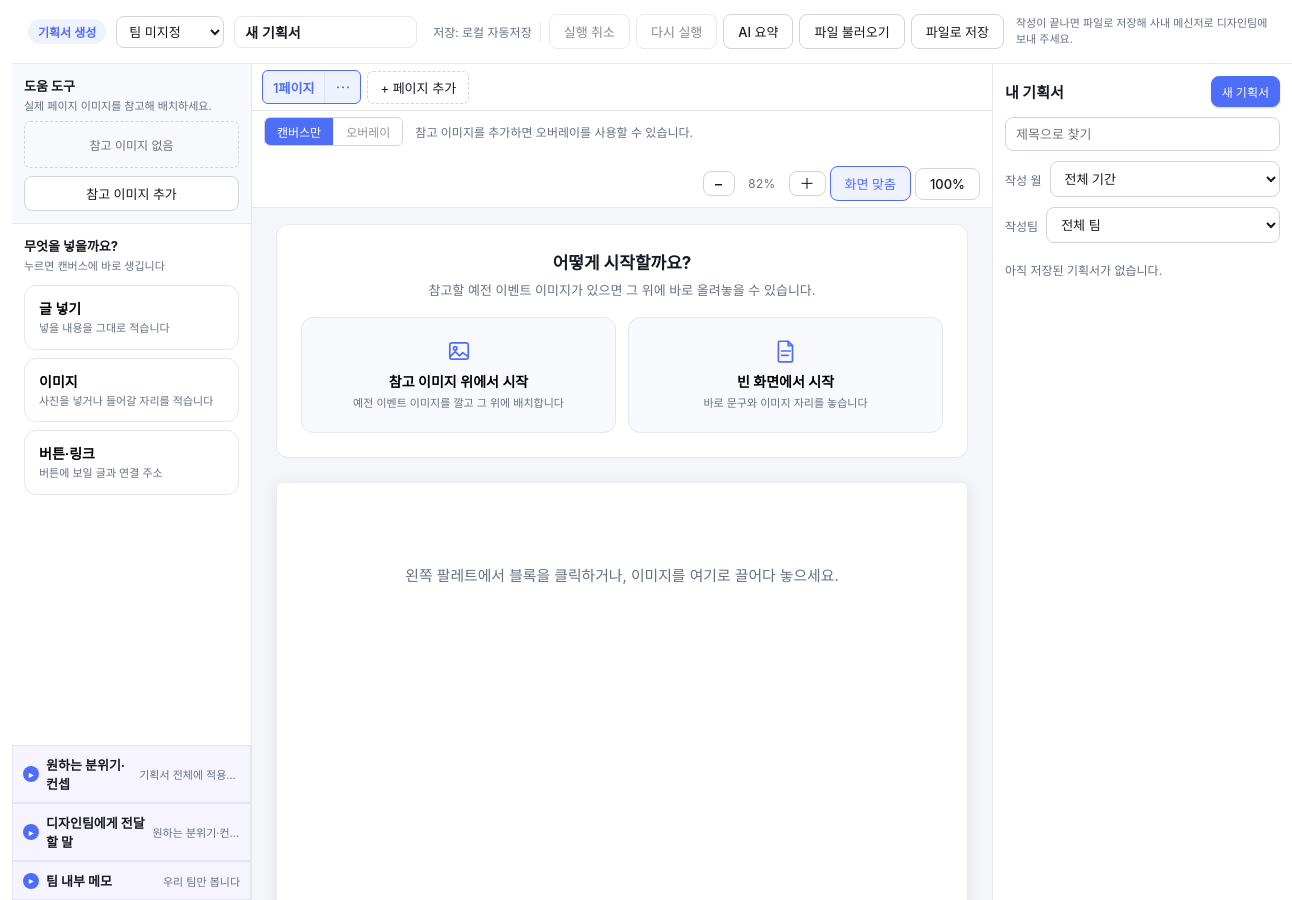
Test: §10.6 이미지 링크 · §10.7 버튼 문구와 URL › stores an image link in a publishing block, never in the design wording
Click the button "이미지 사진을 넣거나 들어갈 자리를 적습니다". click: click(132, 390)
box: left=24, top=358, right=239, bottom=422
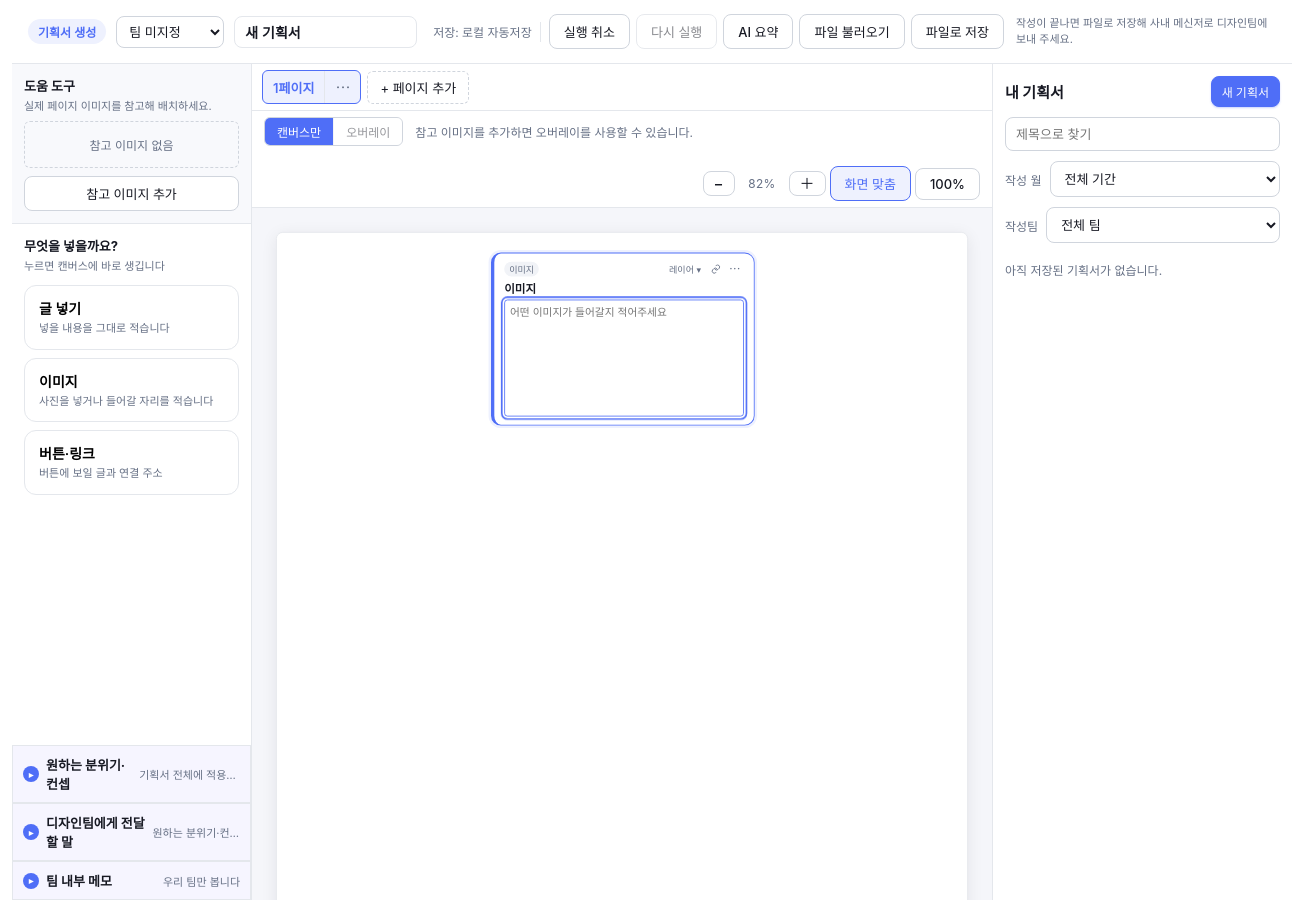
Press Escape
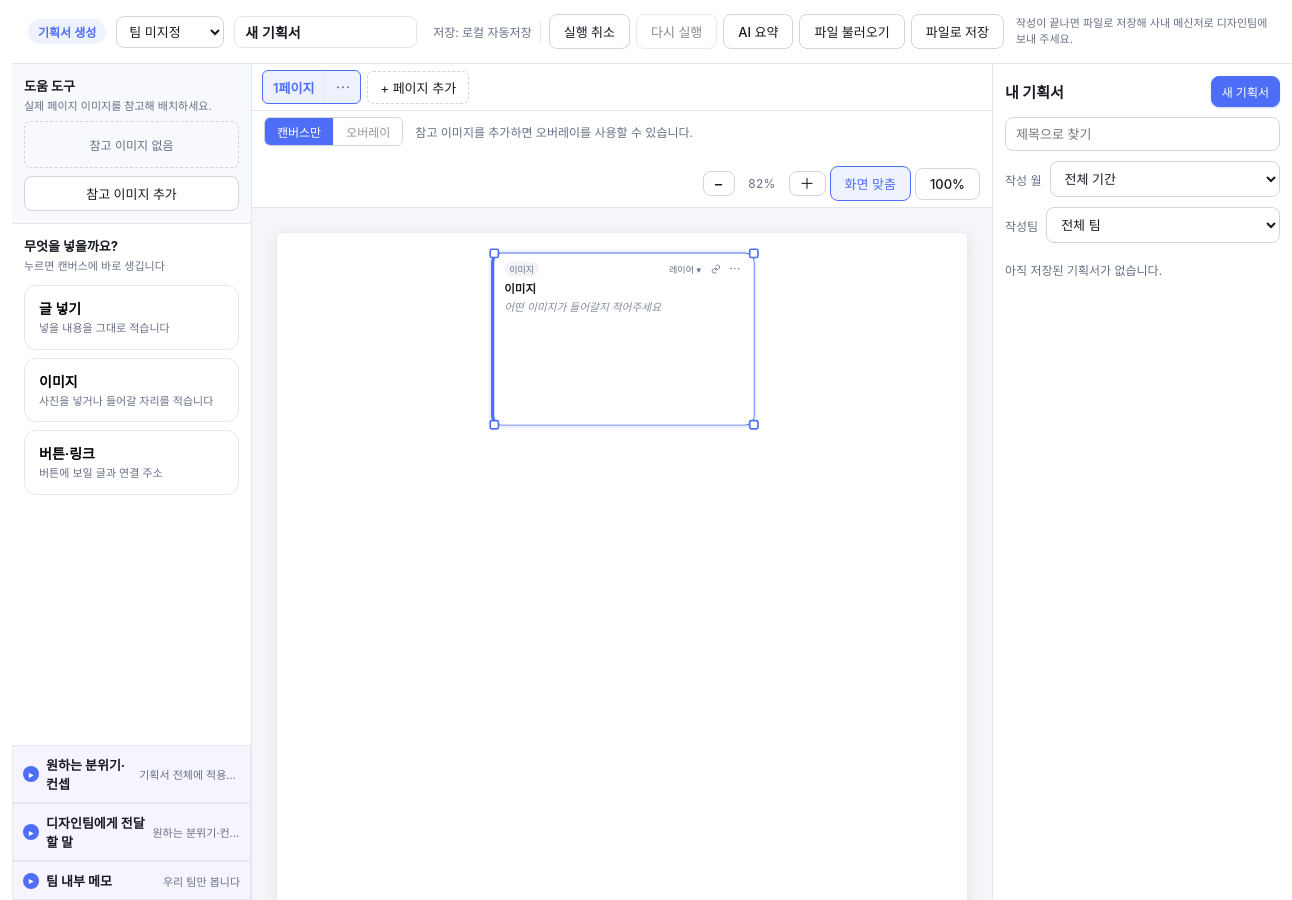
Click the button named "이미지 링크 연결". click: click(716, 269)
box: left=708, top=262, right=724, bottom=276
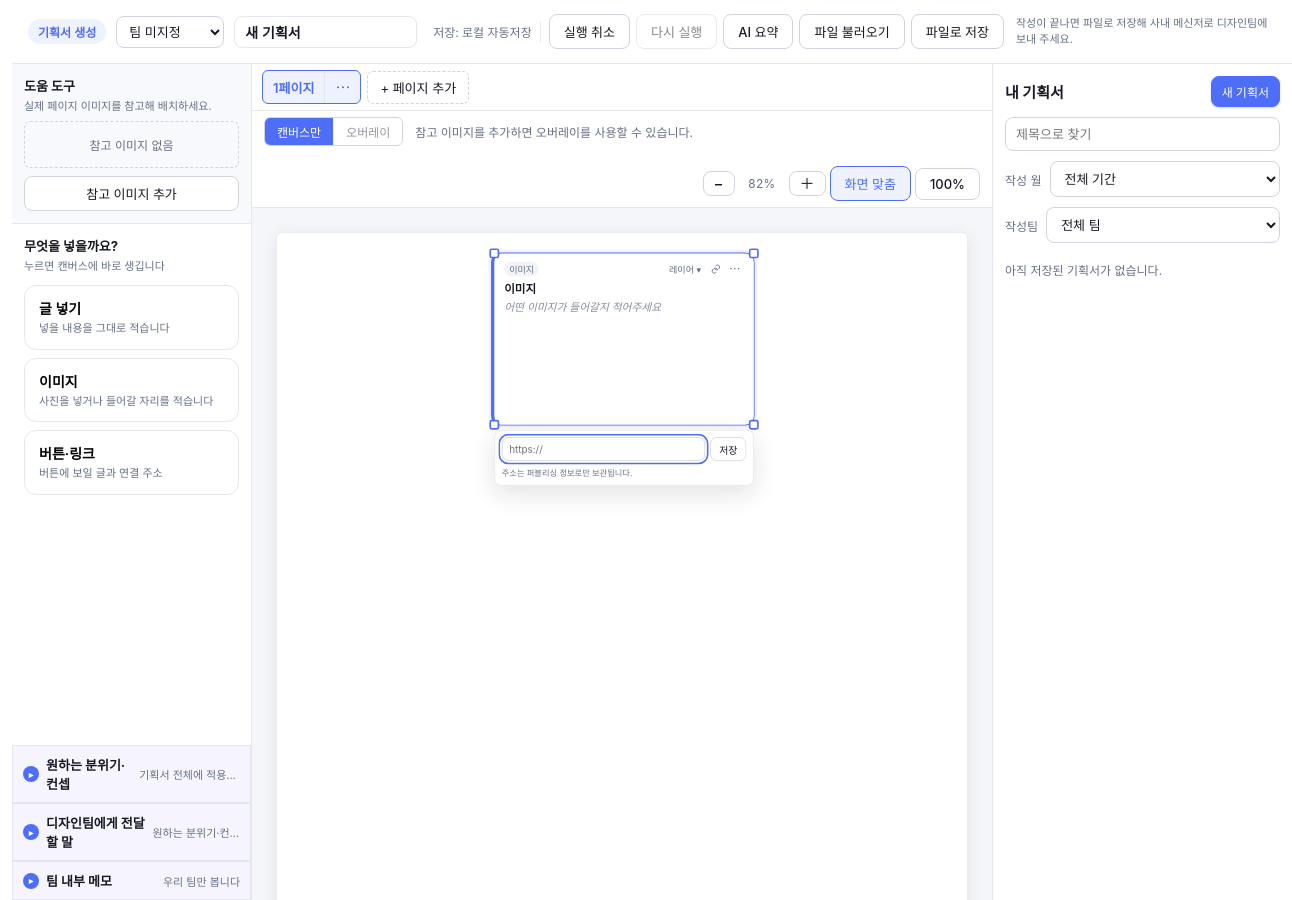
Type "https://shop.example.com/item/1" into the field named "이미지 연결 주소". click: (603, 449)
box: left=502, top=437, right=705, bottom=461
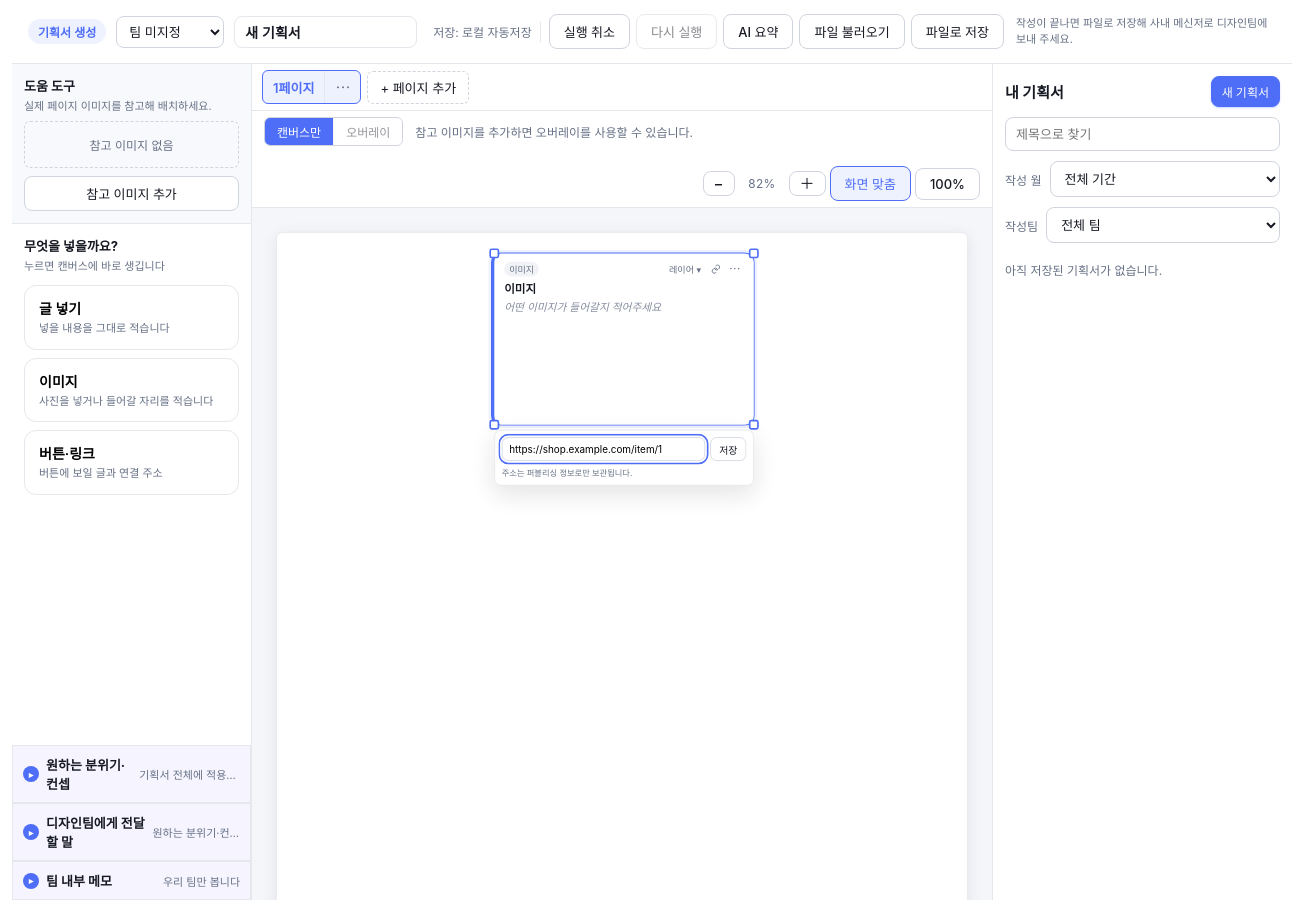
Click the button "저장". click: click(728, 449)
box: left=710, top=437, right=746, bottom=461
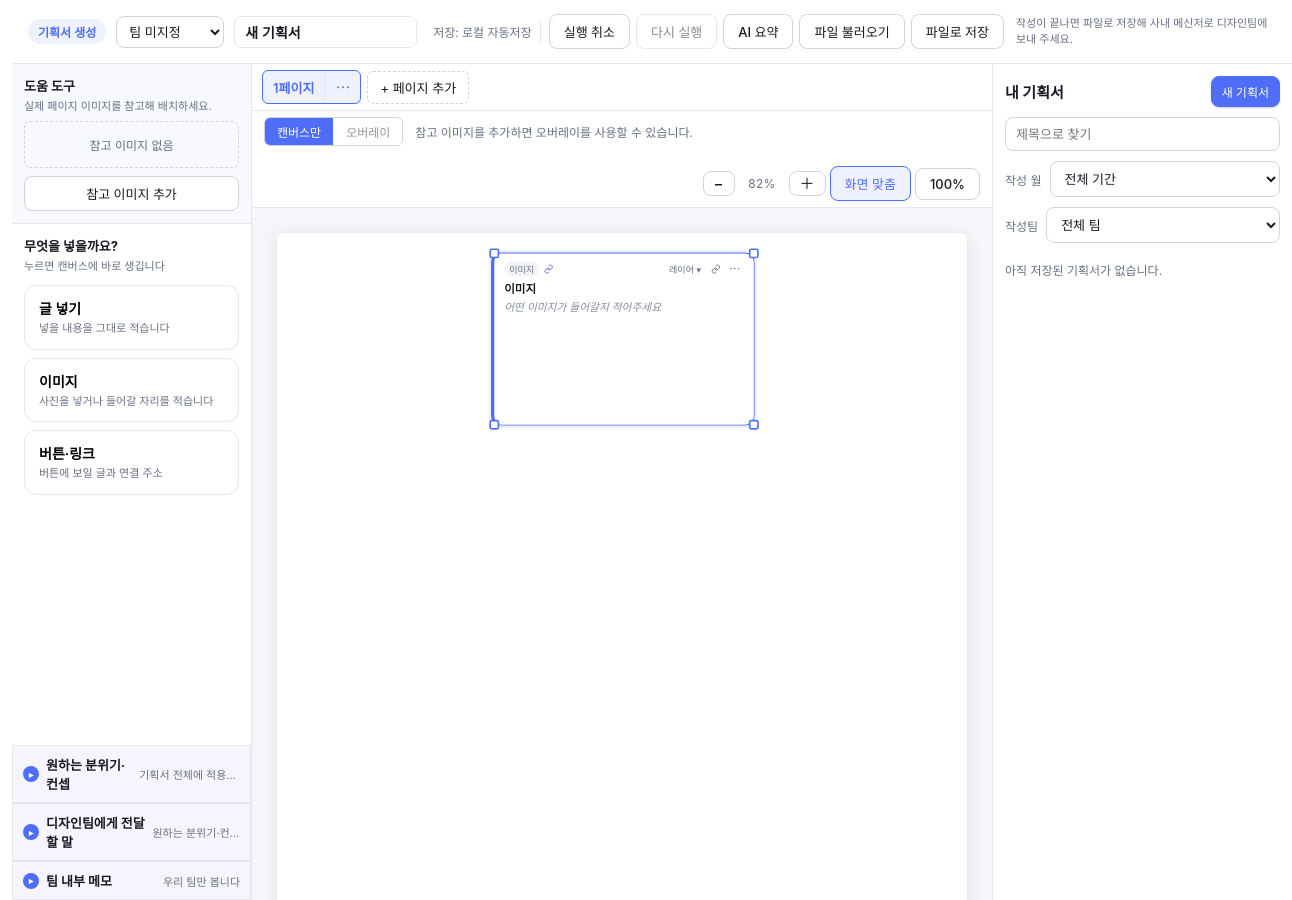
Now the number of buttons with class "block-card" is 1, box left=491, top=253, right=755, bottom=426
Now the element named "연결된 주소 있음" is shown, box left=544, top=264, right=554, bottom=274
